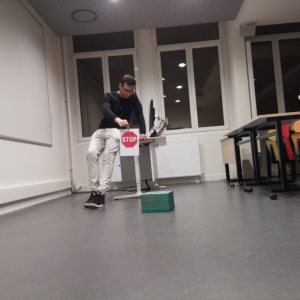stop: (121, 131, 137, 148)
